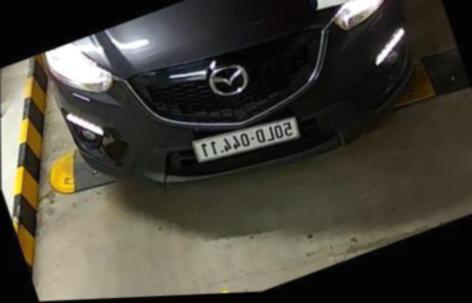License_Plate: (192, 113, 302, 174)
